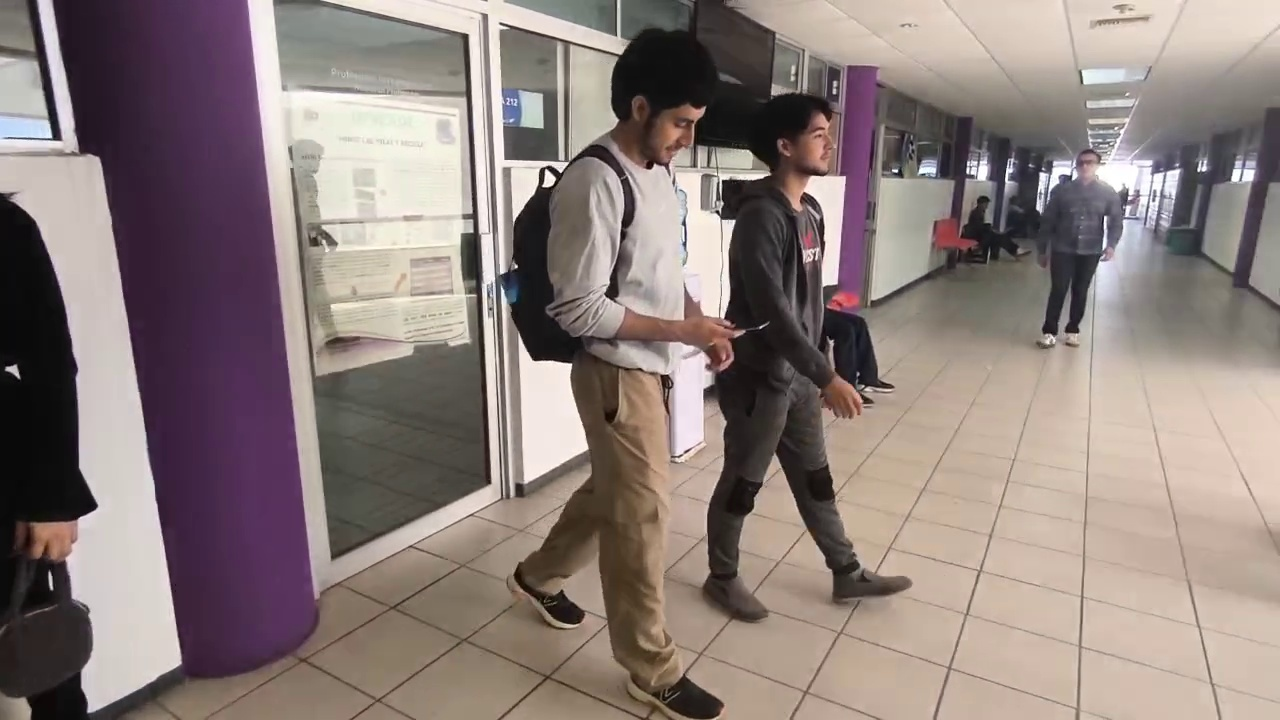mixto2: (722, 311, 774, 338)
